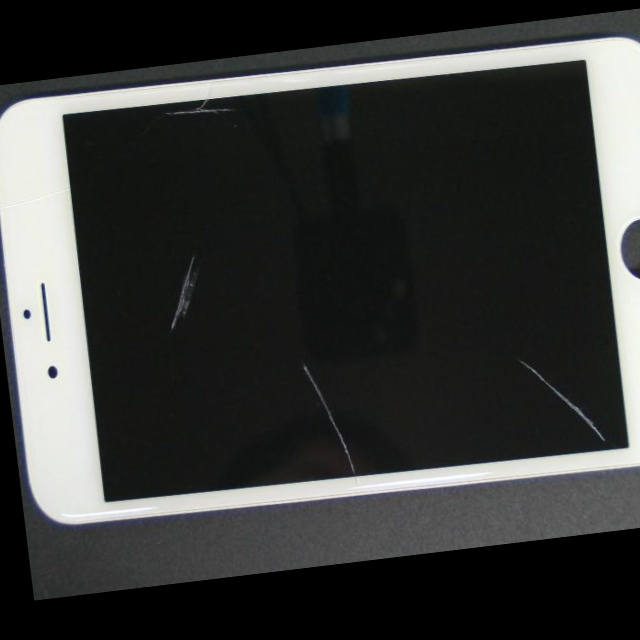scratch: (199, 287, 520, 577), (344, 264, 640, 560), (110, 91, 287, 371), (167, 76, 351, 126)
